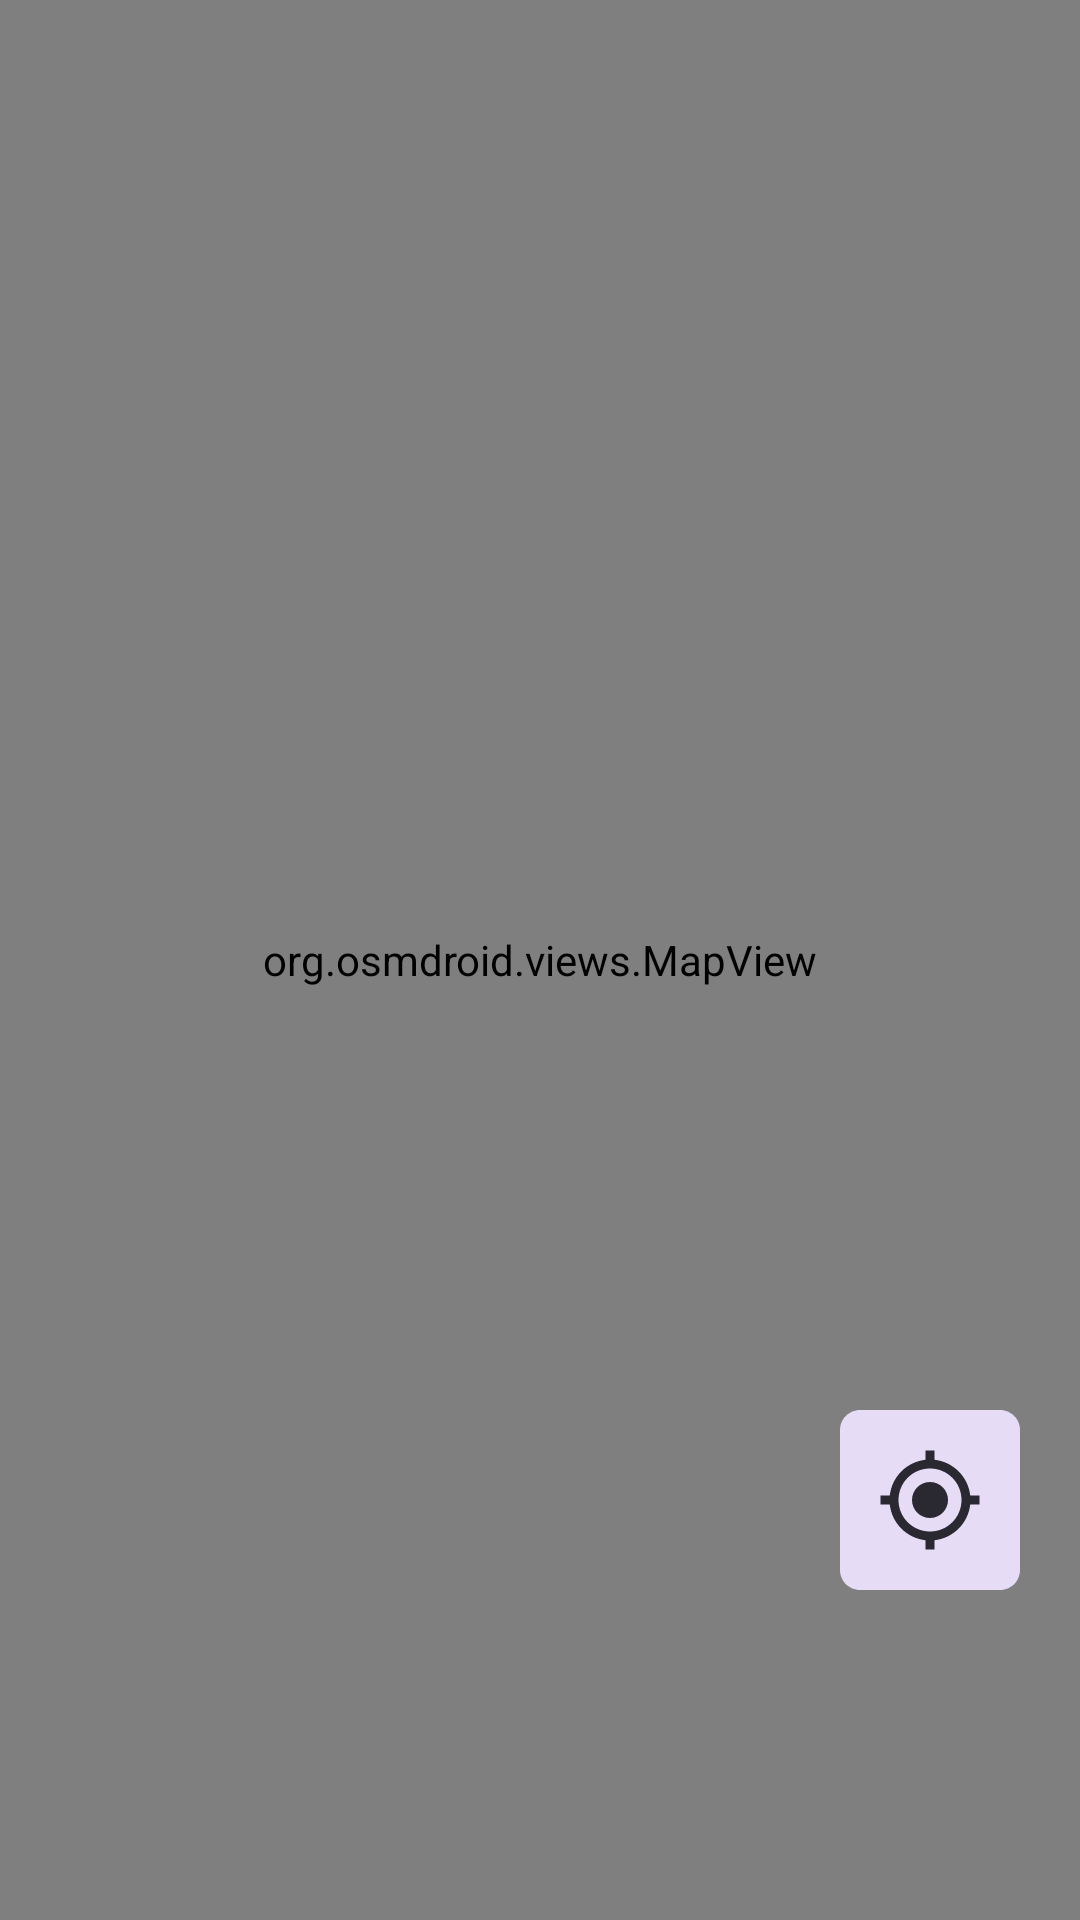

Icon bounding boxes for this 1080×1920 phone screenshot, format (x1, y1, x2, y2):
gps fixed: (840, 1410, 1020, 1590)
